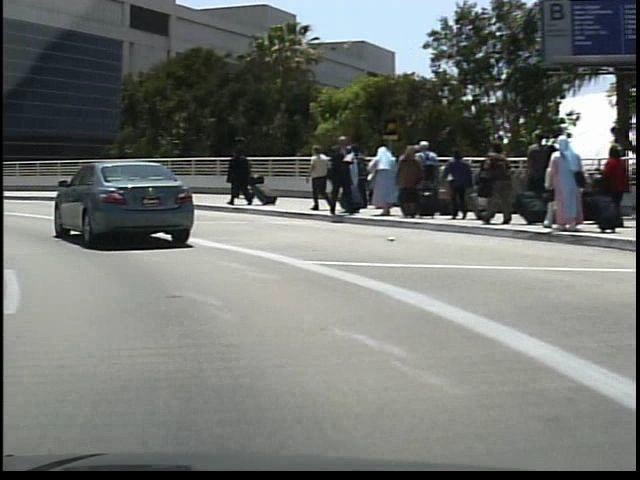person: (321, 133, 354, 216), (302, 141, 326, 211), (222, 145, 250, 205), (231, 153, 251, 202)
